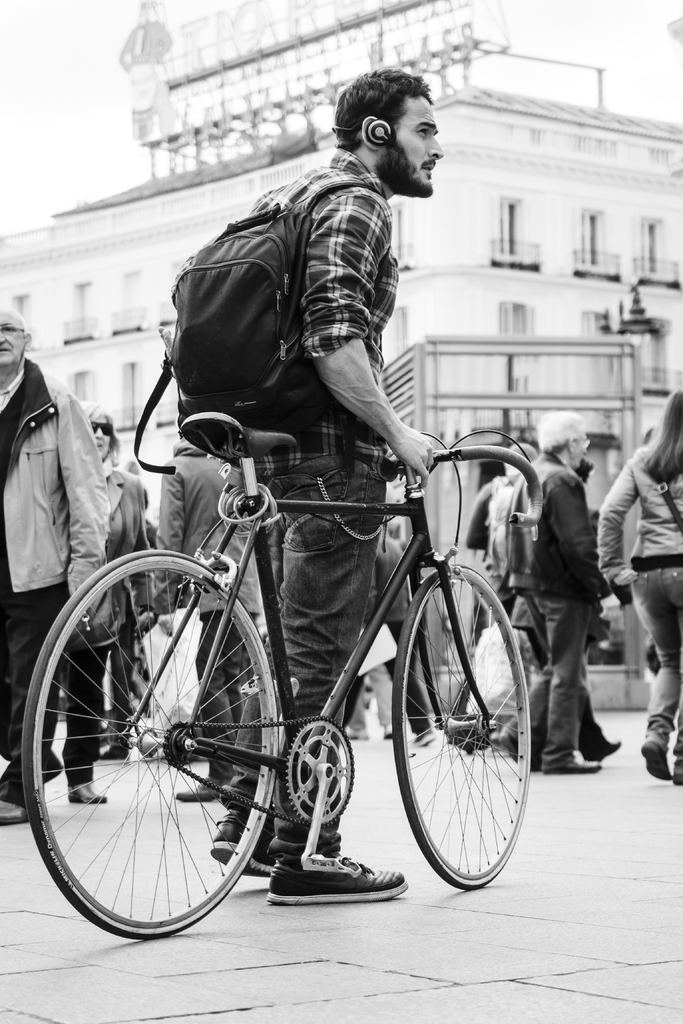Bike_away: (24, 430, 627, 960)
